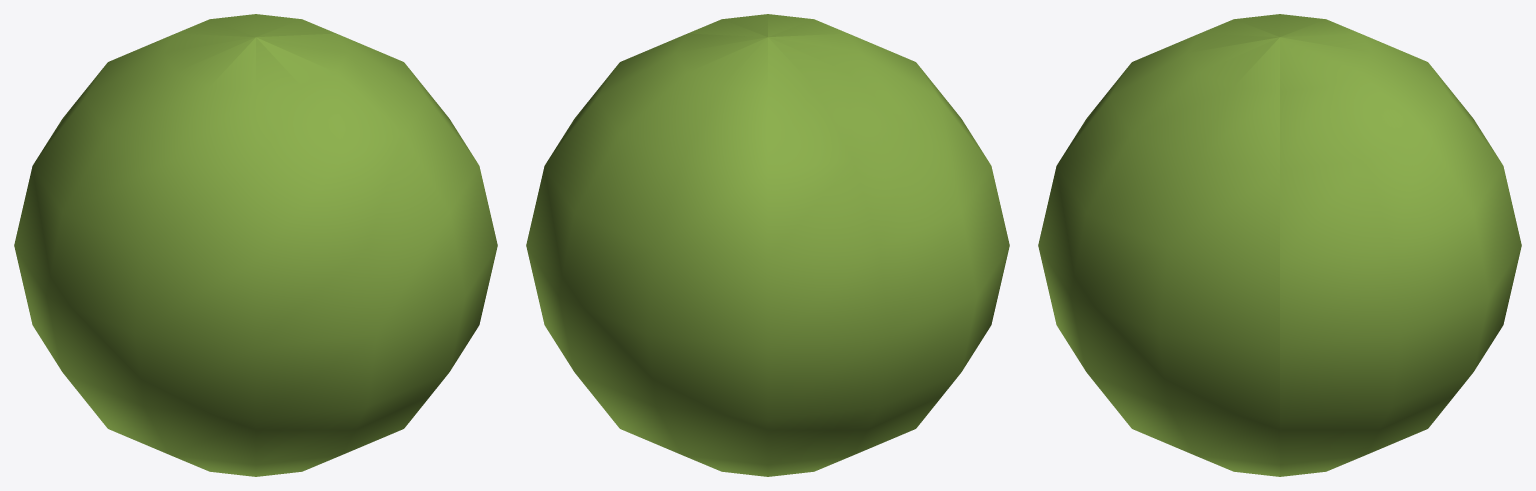
The model's file is fruit-coconut-unripe.glb.
3 renders of one model, left to right at view 1: azimuth 30°, elevation 25°; view 2: azimuth 150°, elevation 25°; view 3: azimuth 270°, elevation 25°, orthographic.
Visible parts, largest first — view 1: fruit-coconut-unripe; view 2: fruit-coconut-unripe; view 3: fruit-coconut-unripe.
Part boxes in pixels (left/top/right/bottom): fruit-coconut-unripe: left=14, top=14, right=497, bottom=476; fruit-coconut-unripe: left=526, top=14, right=1009, bottom=476; fruit-coconut-unripe: left=1038, top=14, right=1521, bottom=476.
Bounding box in the file's own units: 0.56 × 0.532 × 0.56.
